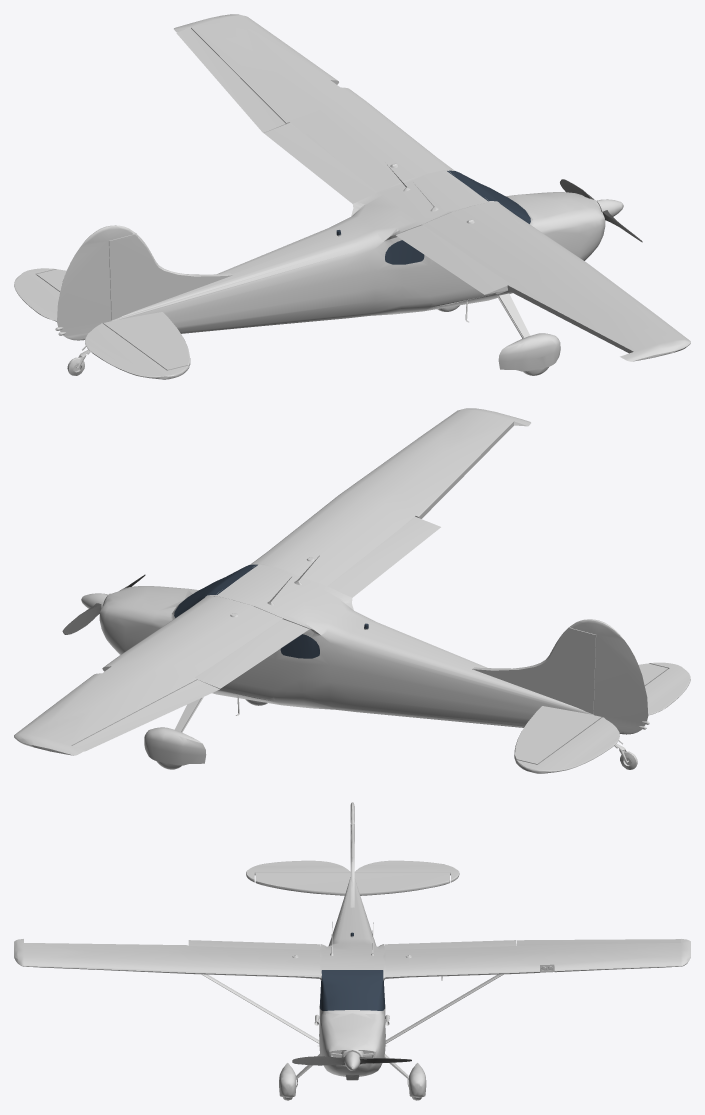
3 views of the same model, one above another, from view 1: azimuth 30°, elevation 25°; view 2: azimuth 150°, elevation 25°; view 3: azimuth 270°, elevation 25° (orthographic). The views are drawn at different scales.
Visible parts, largest first — view 1: body, glass; view 2: body, glass, spin; view 3: body, glass, spin.
Part boxes in pixels (box(x1,y1,x2,y2)): body: box(14, 14, 690, 379); glass: box(336, 170, 530, 264); body: box(14, 408, 690, 773); glass: box(174, 564, 368, 658); spin: box(62, 574, 145, 634); body: box(14, 802, 690, 1100); glass: box(320, 932, 384, 1010); spin: box(292, 1056, 411, 1065).
Size of the model in its own units: 1.58 by 0.559 by 2.2.
